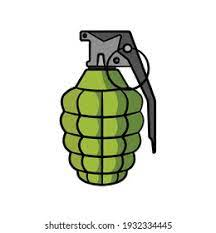bomb: (60, 29, 156, 186)
